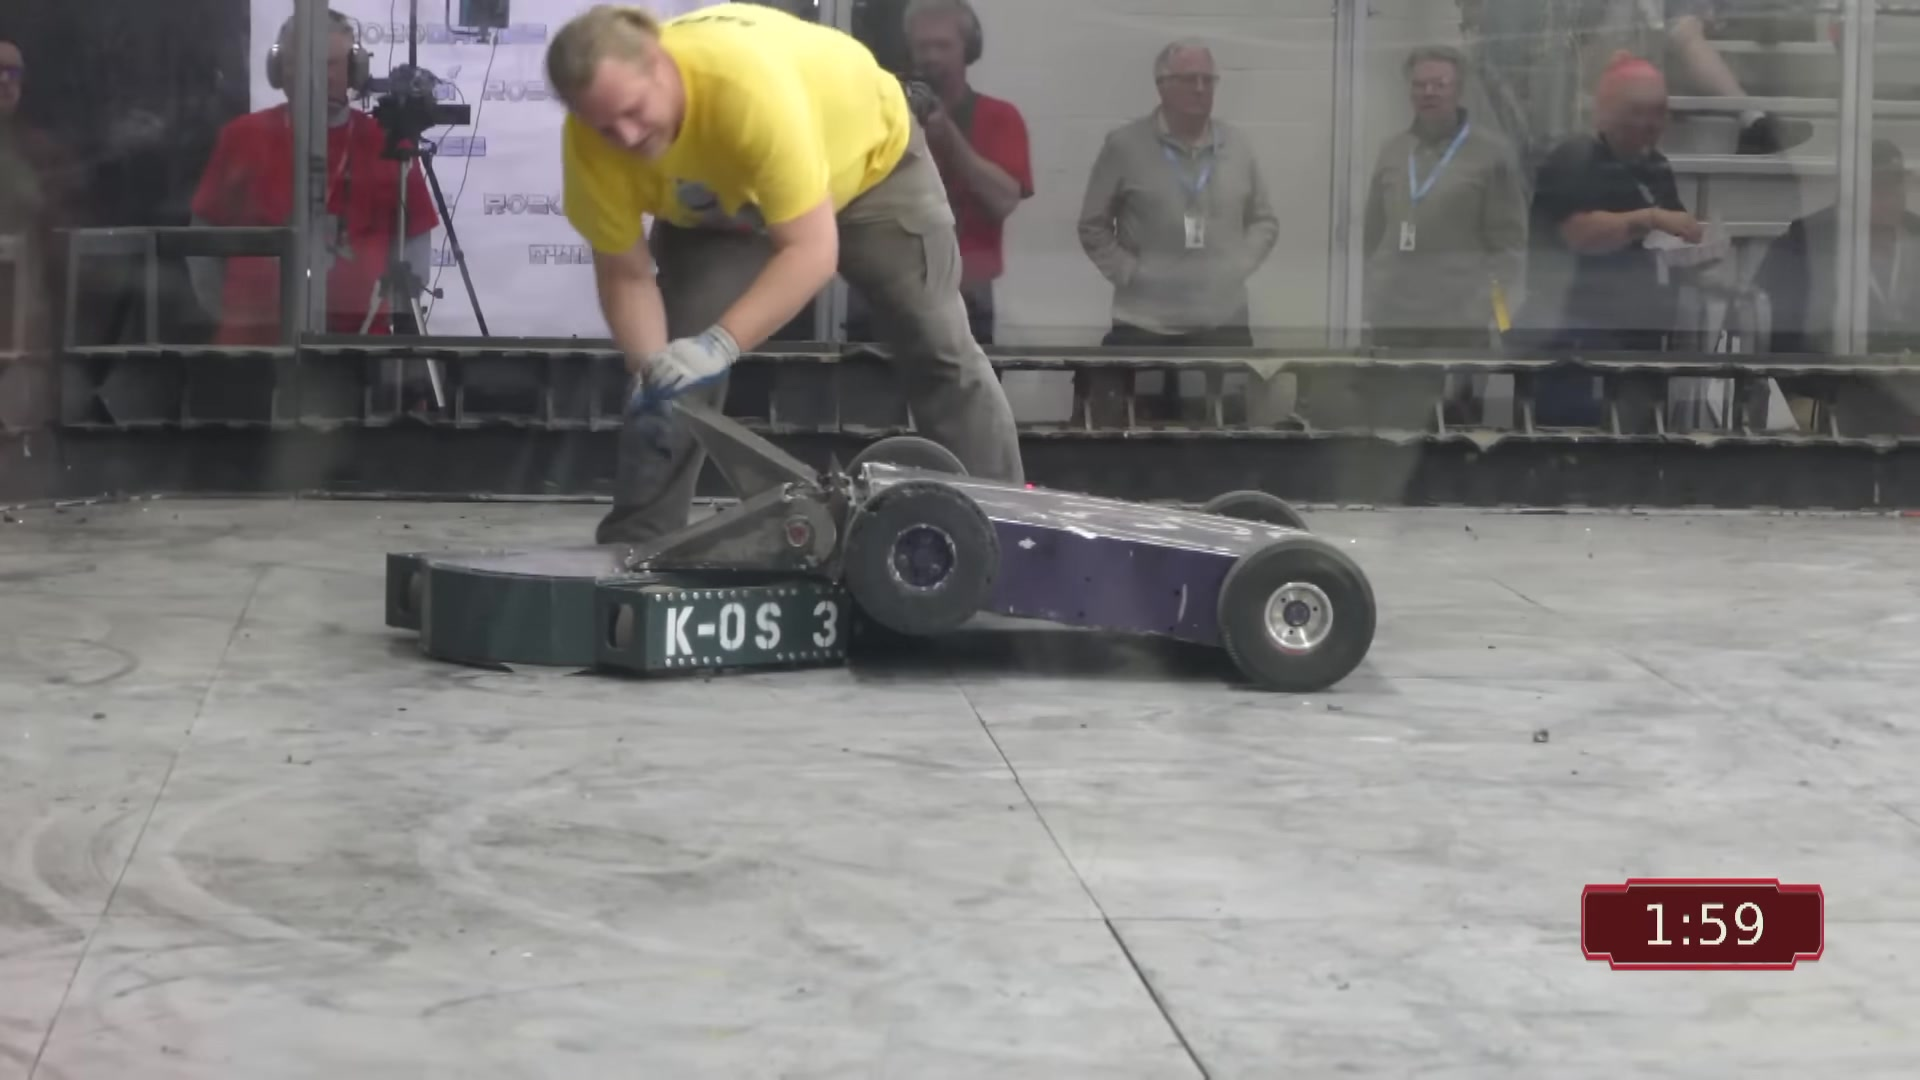combatbot: (673, 440, 1379, 687), (373, 558, 853, 673)
